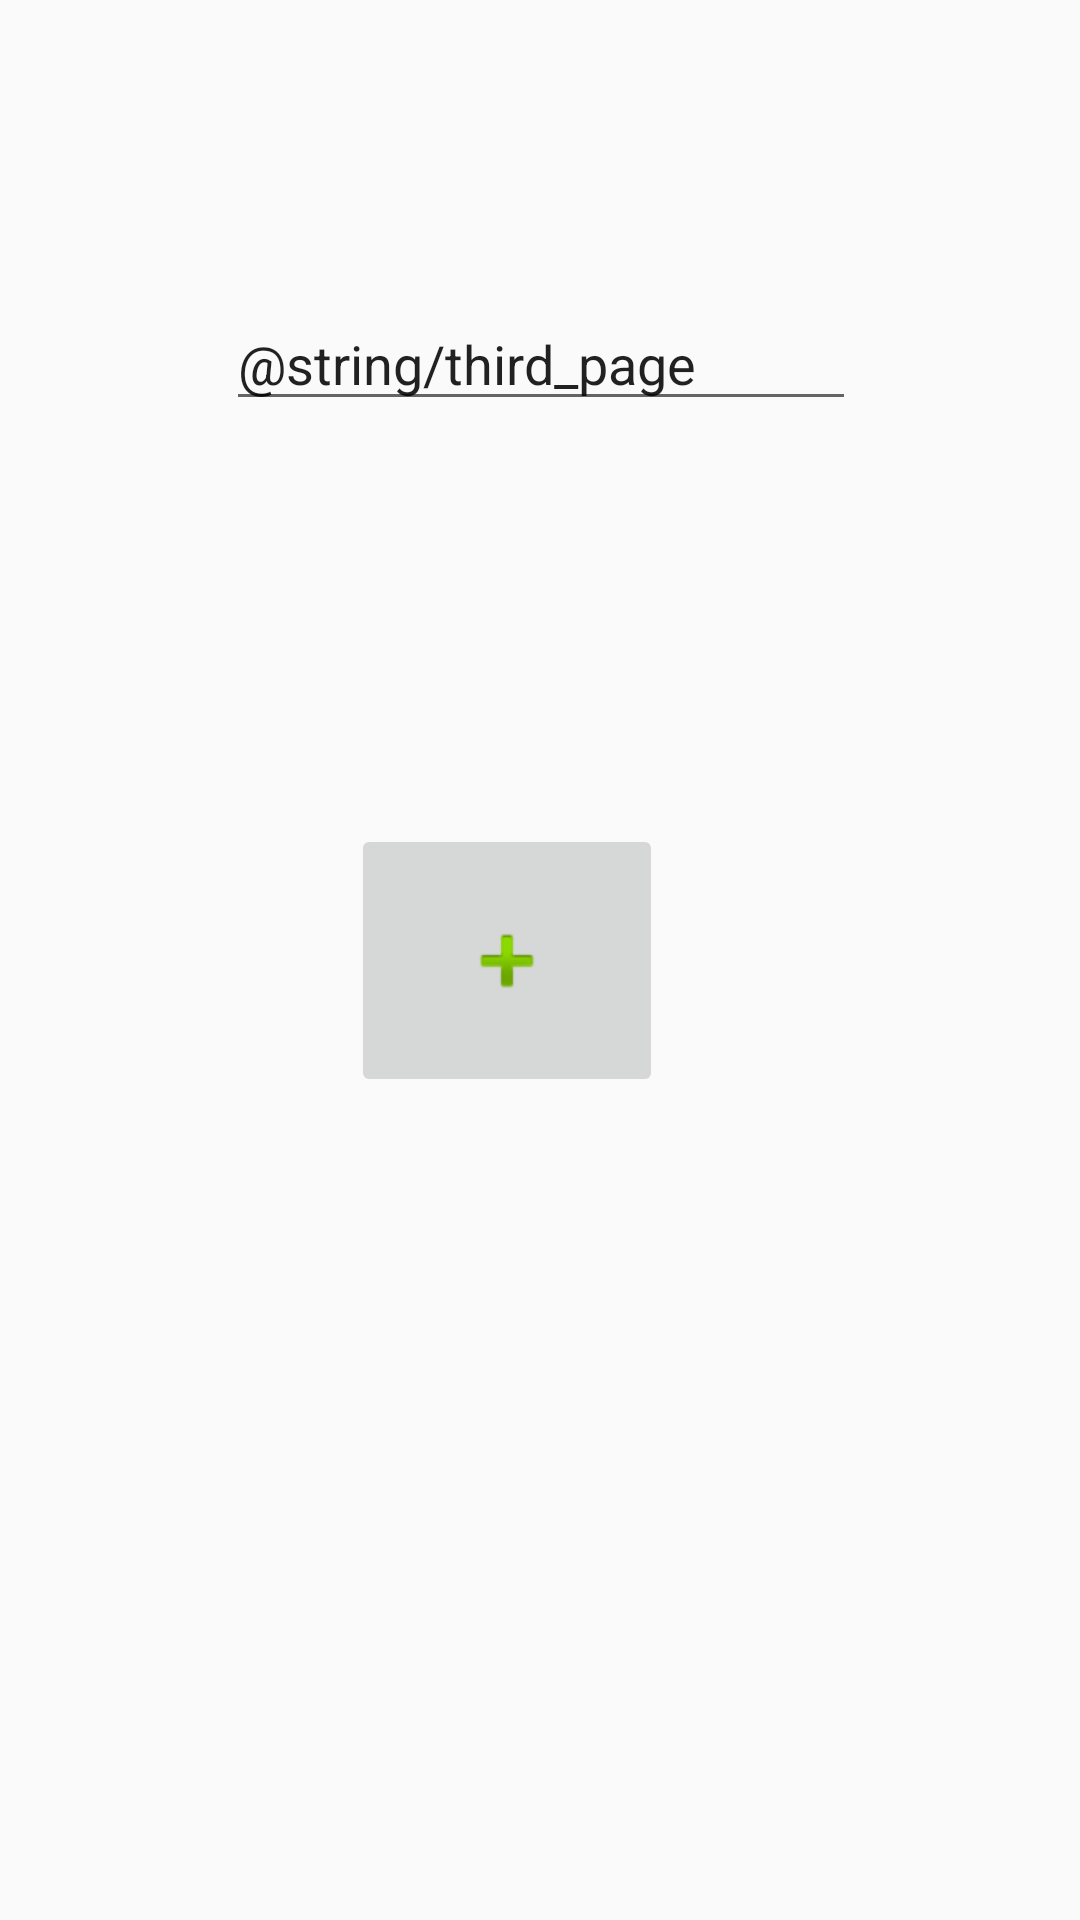

Icon click points for this 1080*1920 phone screenshot, format [x,y]:
add: [507,960]
